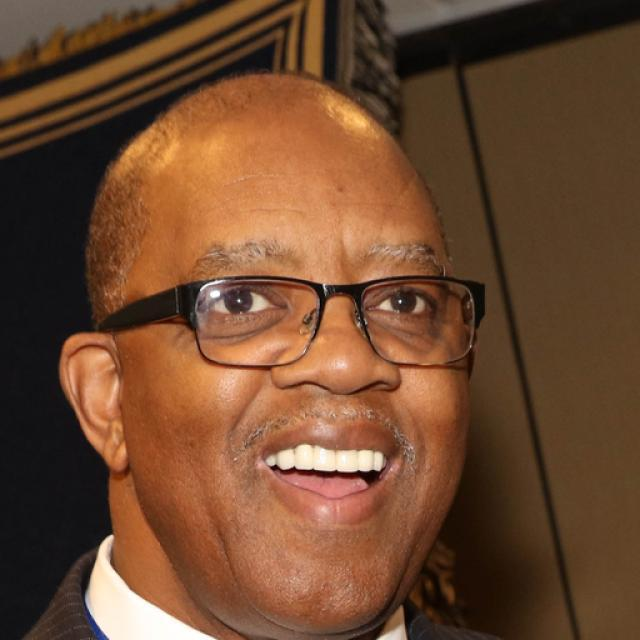happy: (125, 147, 470, 618)
